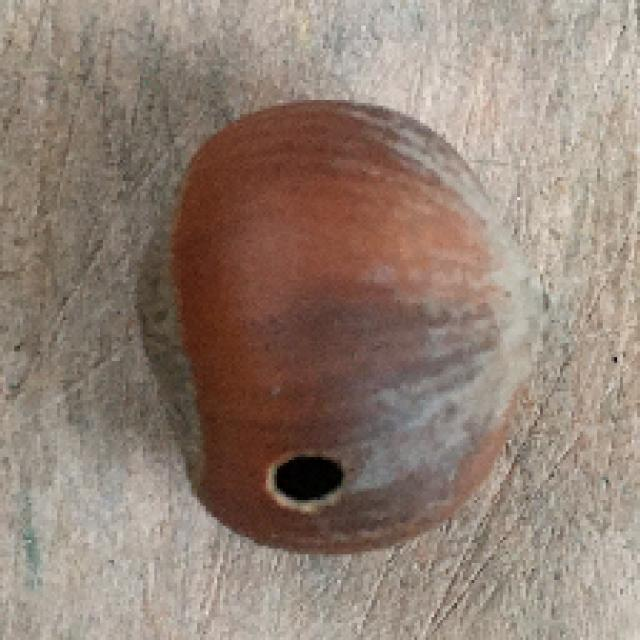damagedHazelnut: (141, 102, 556, 560)
